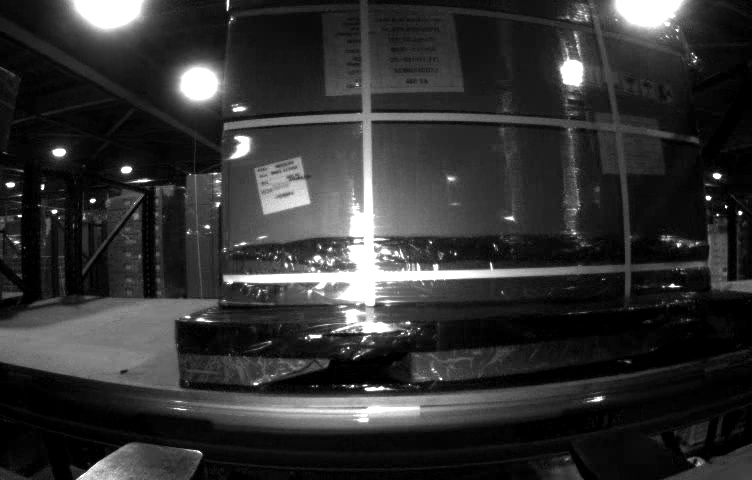True Barcode: (254, 155, 313, 216)
